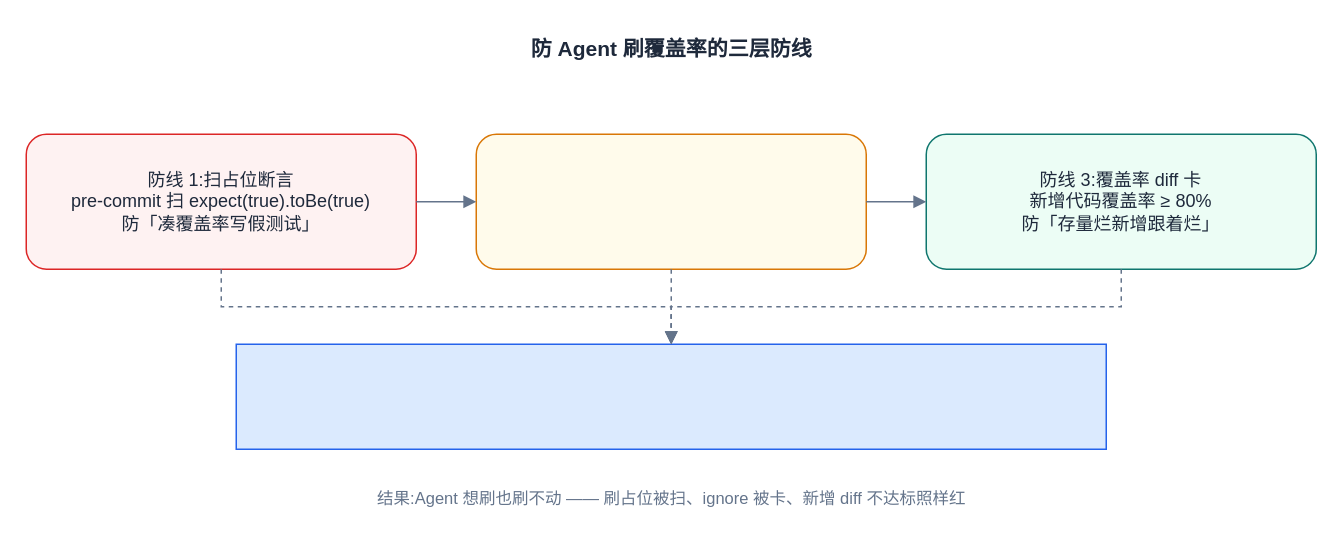
Some shapes in this 1343 by 557 pixel diagram are drawn without their labels. Each missing label, with the box of its shape:
核心原则 不卡绝对值,卡增量 · 不卡总数,卡质量 「过去的债我承认,别再欠新债」: (235, 343, 1106, 449)
防线 2:扫 @Ignore 必须带理由 + issue 号 防「用 ignore 缩小分母」: (475, 133, 866, 269)
